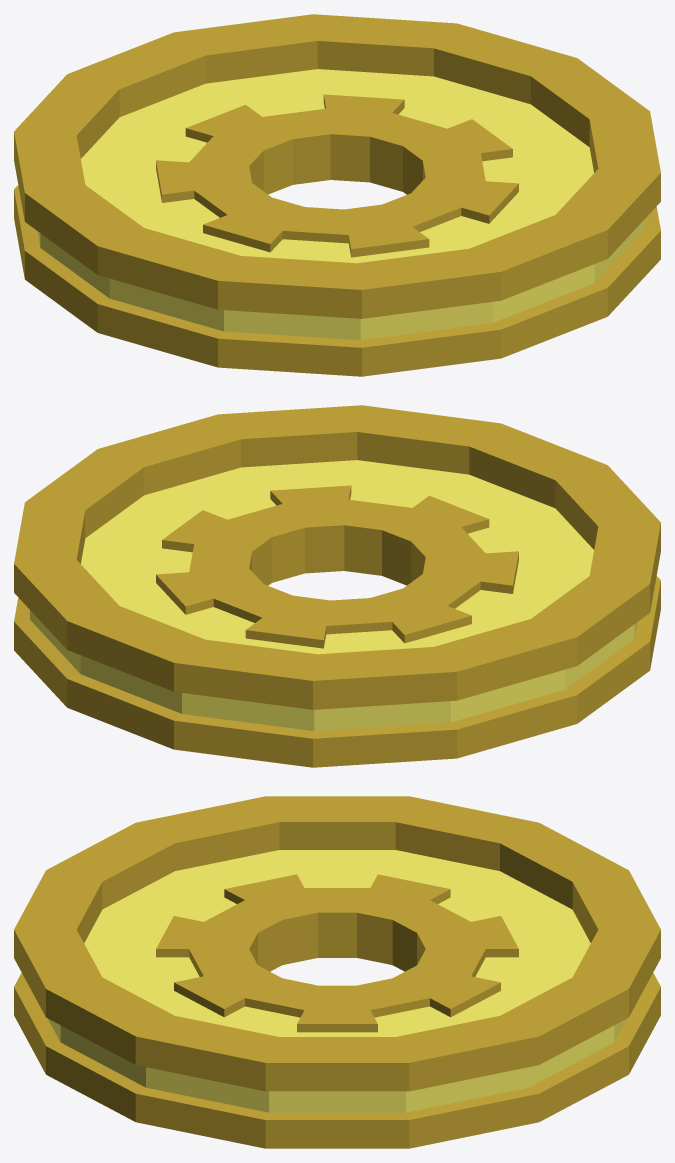
File: Coin.fbx
The picture shows the model from 3 angles, top to bottom: view 1: azimuth 30°, elevation 25°; view 2: azimuth 150°, elevation 25°; view 3: azimuth 270°, elevation 25°; orthographic projection.
Visible parts, largest first — view 1: Circle; view 2: Circle; view 3: Circle.
Boxes of the visible parts, x1,y1,x2,y2 form: Circle: (14, 14, 660, 376); Circle: (14, 405, 660, 767); Circle: (14, 796, 660, 1148).
Size of the model in its own units: 779 by 117 by 799.
